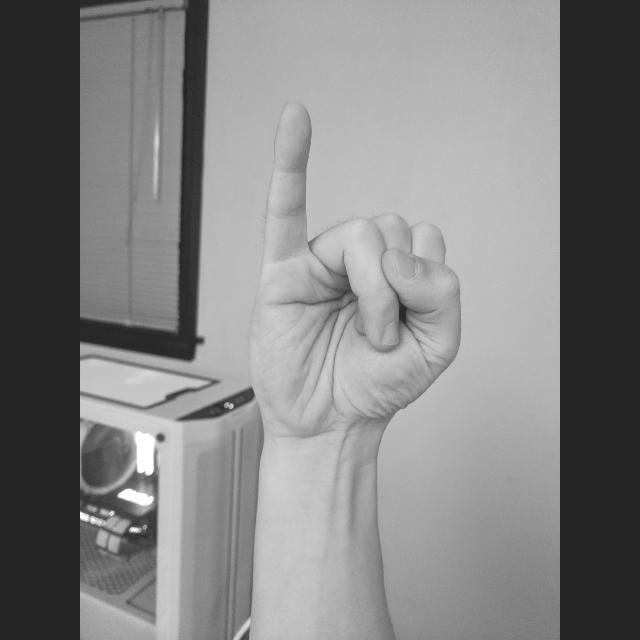I: (240, 93, 466, 451)
